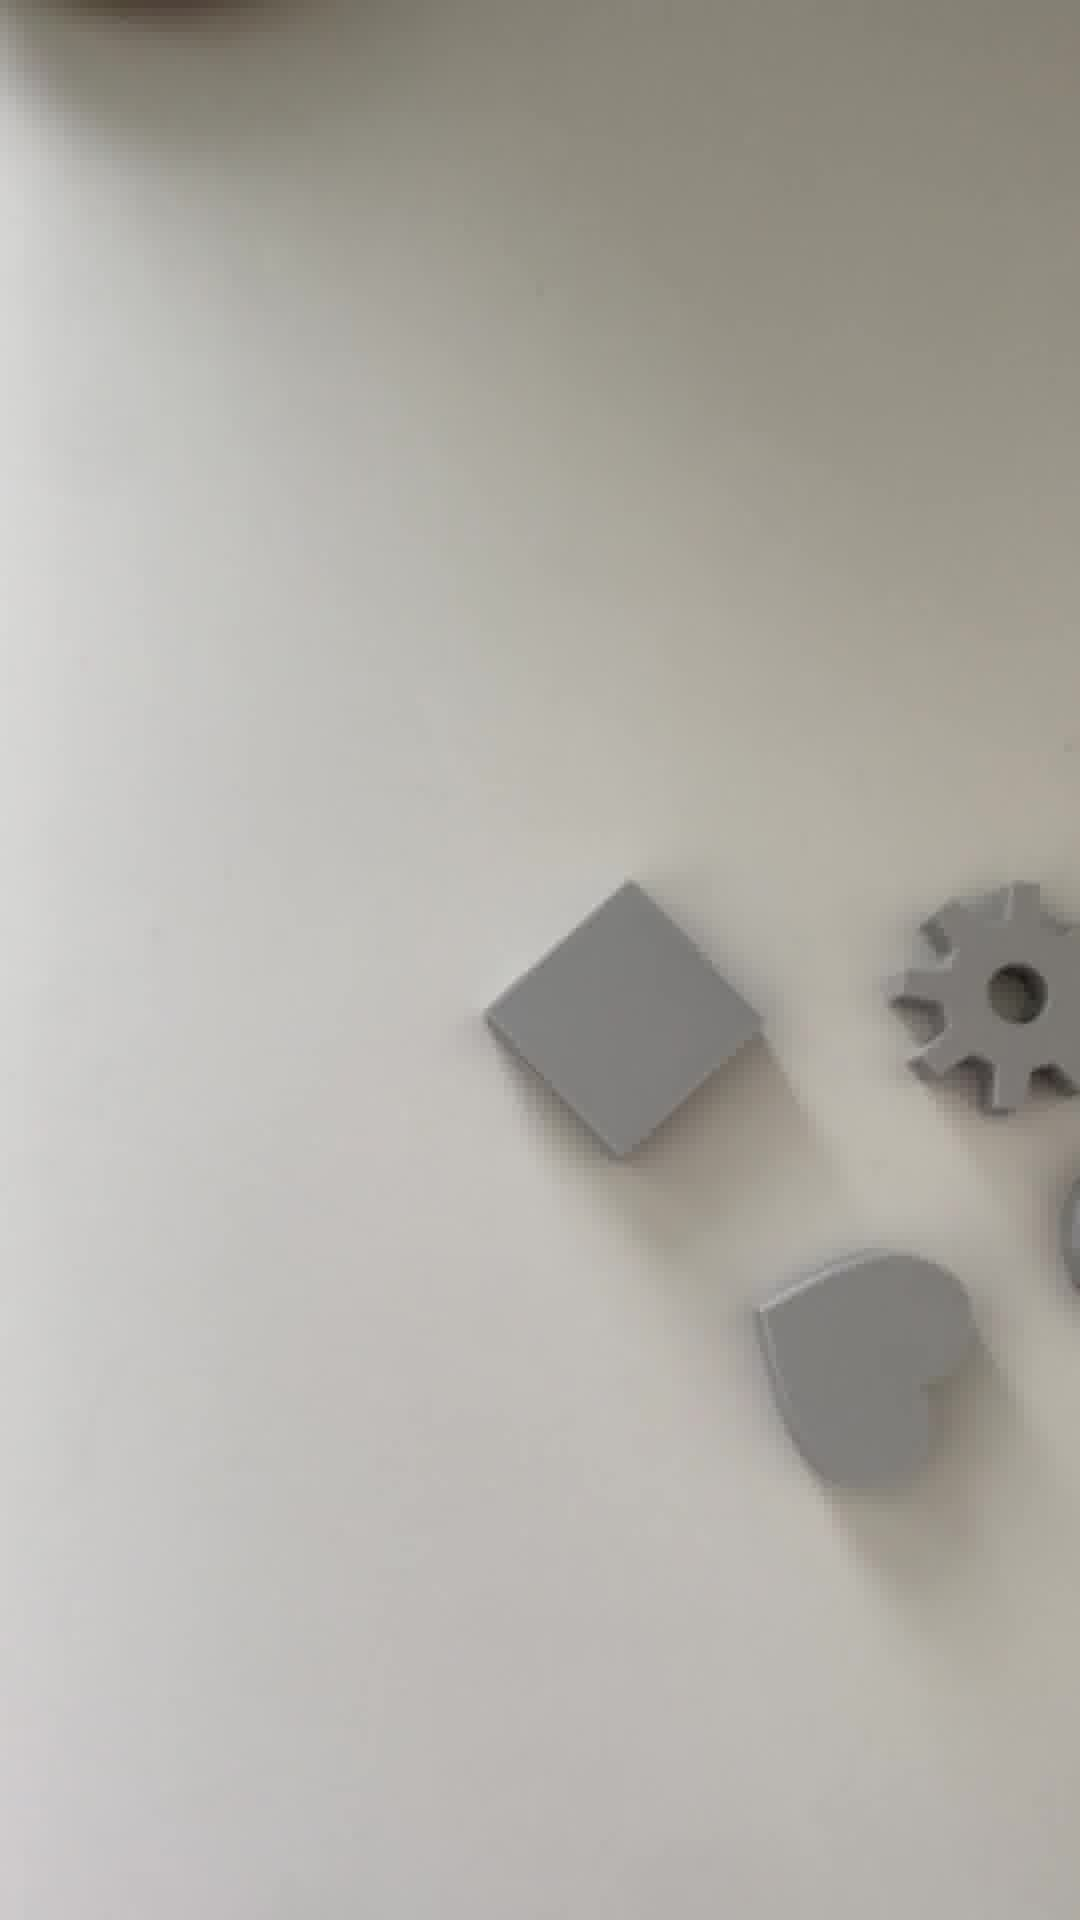Gray gear: (887, 881, 1080, 1124)
Gray heart: (746, 1254, 978, 1503)
Gray square: (488, 881, 752, 1187)
